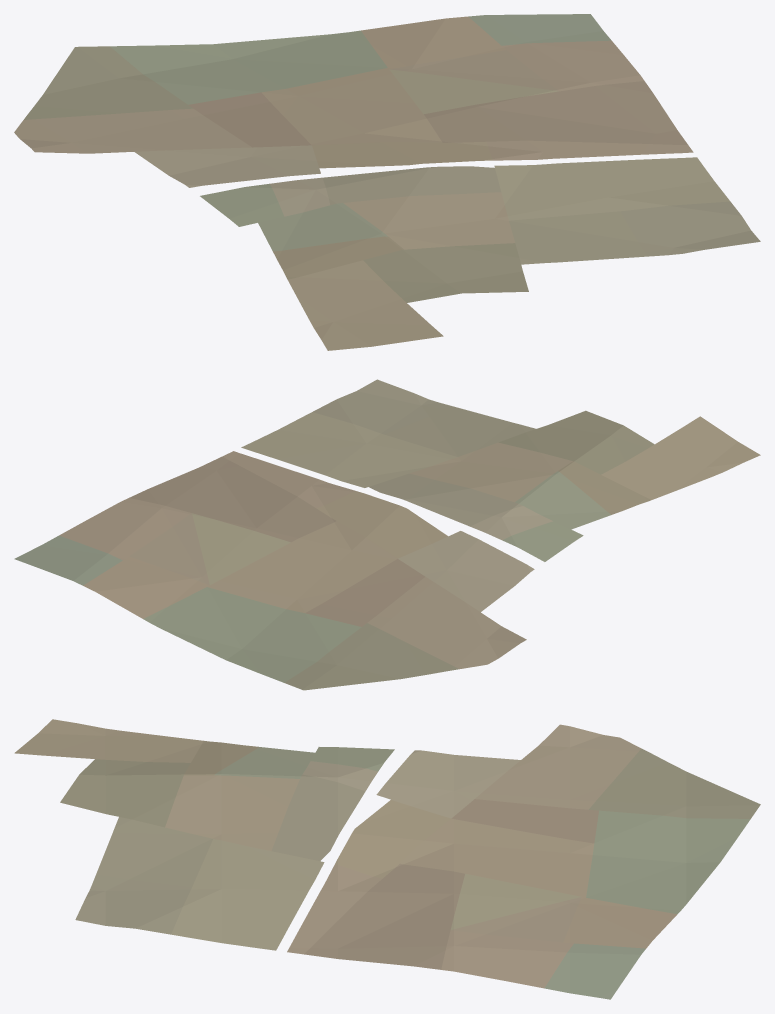
File: farm_-12_-19_soil.glb
3 renders of one model, top to bottom at view 1: azimuth 30°, elevation 25°; view 2: azimuth 150°, elevation 25°; view 3: azimuth 270°, elevation 25°, orthographic. The views are drawn at different scales.
Visible parts, largest first — view 1: geometry_0; view 2: geometry_0; view 3: geometry_0.
Part boxes in pixels (left/top/right/bottom): geometry_0: left=14, top=14, right=760, bottom=350; geometry_0: left=14, top=379, right=760, bottom=690; geometry_0: left=14, top=719, right=760, bottom=999.
Bounding box in the file's own units: 412 × 30.7 × 515.
